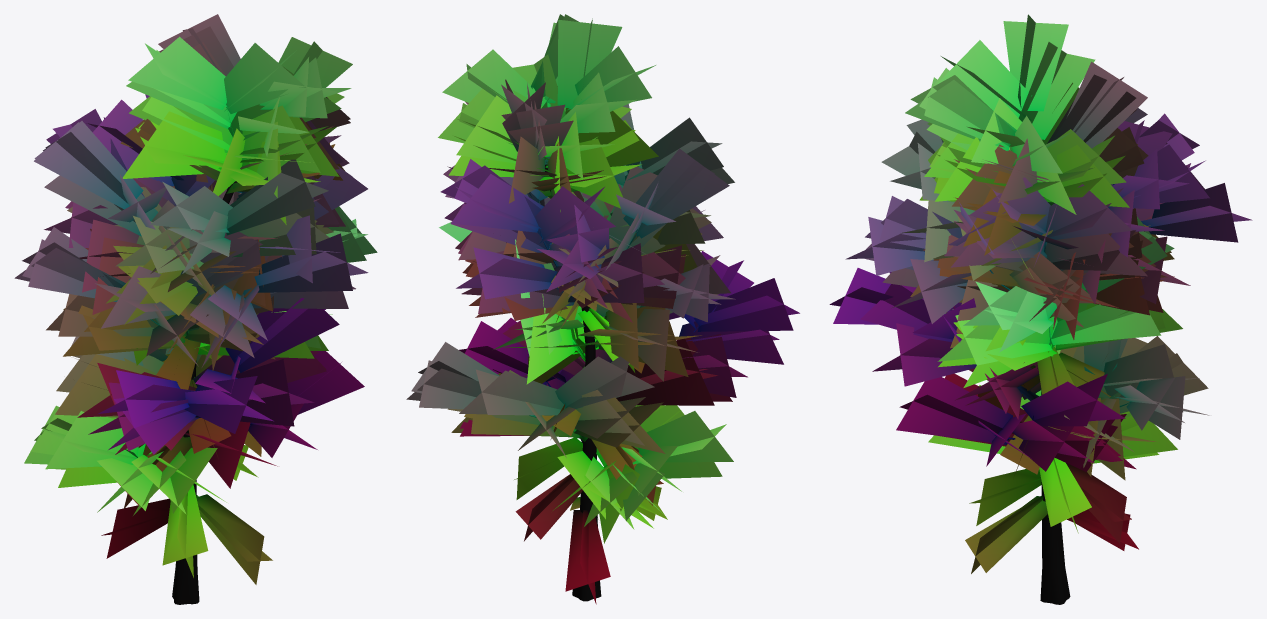
Rendered from M_Realistic21_10.fbx.
3 views of the same model, side by side, from view 1: azimuth 30°, elevation 25°; view 2: azimuth 150°, elevation 25°; view 3: azimuth 270°, elevation 25° (orthographic). The views are drawn at different scales.
Parts seen in each view (by area): view 1: Tree_10; view 2: Tree_10; view 3: Tree_10.
Part boxes in pixels (x1,y1,x2,y2): Tree_10: (14,14,377,604); Tree_10: (406,14,799,604); Tree_10: (829,14,1252,604).
Bounding box in the file's own units: 1058 × 1811 × 1210.
